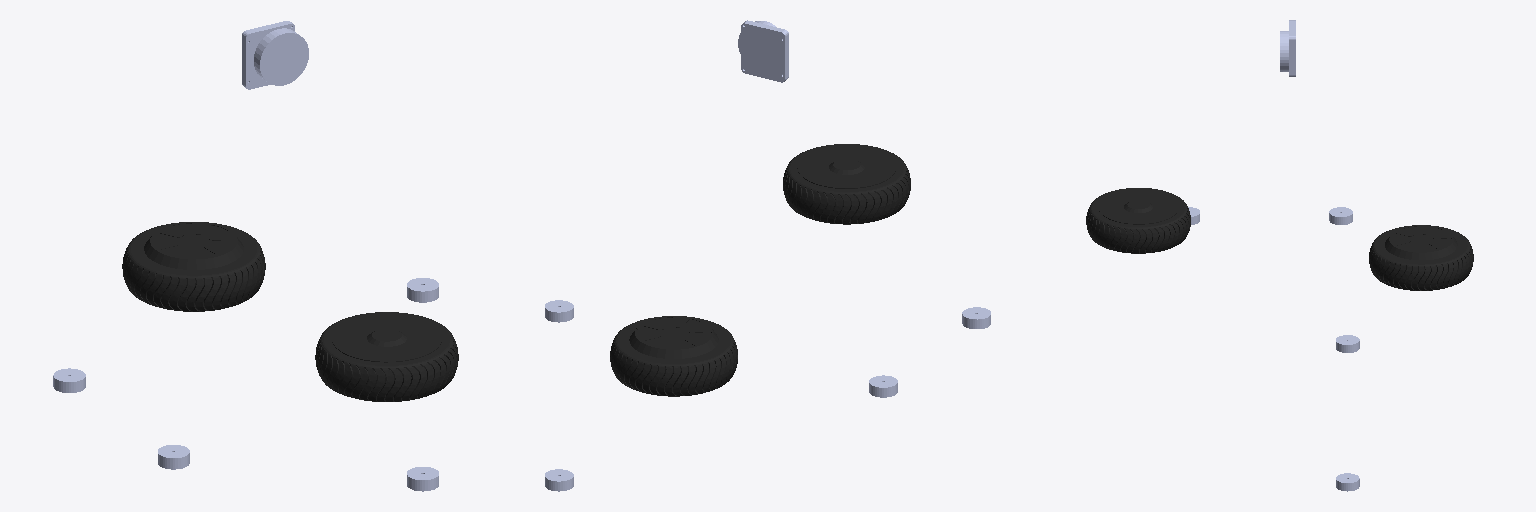
URDF robot description (robotv3):
<?xml version="1.0" encoding="utf-8"?>
<!-- This URDF was automatically created by SolidWorks to URDF Exporter! Originally created by [author] ([email redacted]) 
     Commit Version: 1.6.0-4-g7f85cfe  Build Version: 1.6.7995.38578
     For more information, please see http://wiki.ros.org/sw_urdf_exporter -->
<robot name="robotv3">
  <link name="world"/>
  <!-- /////////////////////////base link/////////////////////////-->
  <link name="base_link">
    <inertial>
      <origin xyz="0.140000952371063 0.00451310766751525 0.0915757789967482" rpy="0 0 0" />
      <mass value="6.47533924385785" />
      <inertia ixx="0.0302625304757238" ixy="1.94487781237177E-07" ixz="-1.9192528153292E-07" iyy="0.092475795669923" iyz="7.93867078290133E-08" izz="0.103362118587658" />
    </inertial>
    <visual>
      <origin xyz="0 0 0" rpy="0 0 0" />
      <geometry>
        <mesh filename="package://robotv3/meshes/base_link.STL" />
      </geometry>
      <material name="">
        <color rgba="0.792156862745098 0.819607843137255 0.933333333333333 1" />
      </material>
    </visual>
    <collision>
      <origin xyz="0 0 0" rpy="0 0 0" />
      <geometry>
        <mesh filename="package://robotv3/meshes/base_link.STL" />
      </geometry>
    </collision>
  </link>
  <link name="Rmotor">
    <inertial>
      <origin xyz="-6.77236045021345E-15 7.38177127135309E-06 -0.0303894831621584" rpy="0 0 0" />
      <mass value="0.989823090734284" />
      <inertia ixx="0.00167927627906862" ixy="-3.96697086748782E-08" ixz="-1.21932956844046E-18" iyy="0.00167924910773203" iyz="3.99026302025336E-07" izz="0.00288692436393867" />
    </inertial>
    <visual>
      <origin xyz="0 0 0" rpy="0 0 0" />
      <geometry>
        <mesh filename="package://robotv3/meshes/Rmotor.STL" />
      </geometry>
      <material name="">
        <color rgba="0.2 0.2 0.2 1" />
      </material>
    </visual>
    <collision>
      <origin xyz="0 0 0" rpy="0 0 0" />
      <geometry>
        <mesh filename="package://robotv3/meshes/Rmotor.STL" />
      </geometry>
    </collision>
  </link>
  <joint name="Rmotor-jt" type="continuous">
    <origin xyz="0.140750000000001 -0.219630000000005 -0.0359999999999837" rpy="1.57079632679484 0 0" />
    <parent link="base_link" />
    <child link="Rmotor" />
    <axis xyz="0 0 1" />
  </joint>
  <link name="Lmotor">
    <inertial>
      <origin xyz="-0.00150000000000572 7.38177127235229E-06 0.0303894831621573" rpy="0 0 0" />
      <mass value="0.989823090734153" />
      <inertia ixx="0.00167927627906842" ixy="3.96697086918246E-08" ixz="-7.95229096556754E-18" iyy="0.00167924910773175" iyz="-3.99026302030596E-07" izz="0.0028869243639382" />
    </inertial>
    <visual>
      <origin xyz="0 0 0" rpy="0 0 0" />
      <geometry>
        <mesh filename="package://robotv3/meshes/Lmotor.STL" />
      </geometry>
      <material name="">
        <color rgba="0.2 0.2 0.2 1" />
      </material>
    </visual>
    <collision>
      <origin xyz="0 0 0" rpy="0 0 0" />
      <geometry>
        <mesh filename="package://robotv3/meshes/Lmotor.STL" />
      </geometry>
    </collision>
  </link>
  <joint name="Lmotor-jt" type="continuous">
    <origin xyz="0.140750000000012 0.219499999999995 -0.03600000000001" rpy="1.57079632679484 0 0" />
    <parent link="base_link" />
    <child link="Lmotor" />
    <axis xyz="0 0 1" />
  </joint>
  <link name="lidar">
    <inertial>
      <origin xyz="0.00676628412110791 -0.0223997547966232 0.000207944111953351" rpy="0 0 0" />
      <mass value="1.32944589754502" />
      <inertia ixx="0.000612752010300123" ixy="0.000158232462510537" ixz="8.01141141657016E-07" iyy="0.00109574614926809" iyz="3.09663447837254E-06" izz="0.000957691135206995" />
    </inertial>
    <visual>
      <origin xyz="0 0 0" rpy="0 0 0" />
      <geometry>
        <mesh filename="package://robotv3/meshes/lidar.STL" />
      </geometry>
      <material name="">
        <color rgba="0.792156862745098 0.819607843137255 0.933333333333333 1" />
      </material>
    </visual>
    <collision>
      <origin xyz="0 0 0" rpy="0 0 0" />
      <geometry>
        <mesh filename="package://robotv3/meshes/lidar.STL" />
      </geometry>
    </collision>
  </link>
  <joint name="lidar-jt" type="fixed">
    <origin xyz="0.132999999999998 0.000115901455793238 0.282700000000003" rpy="1.57079632679484 0 0" />
    <parent link="base_link" />
    <child link="lidar" />
    <axis xyz="0 1 0" />
  </joint>
  <link name="BLcaster">
    <inertial>
      <origin xyz="-0.000930000000013198 3.01980662698043E-14 -0.00699999999999325" rpy="0 0 0" />
      <mass value="0.0148770120110745" />
      <inertia ixx="1.53078254838952E-06" ixy="-1.47816556150456E-22" ixz="-2.55582044176612E-20" iyy="1.53078254838952E-06" iyz="5.88405645513596E-20" izz="2.57558270441727E-06" />
    </inertial>
    <visual>
      <origin xyz="0 0 0" rpy="0 0 0" />
      <geometry>
        <mesh filename="package://robotv3/meshes/BLcaster.STL" />
      </geometry>
      <material name="">
        <color rgba="0.792156862745098 0.819607843137255 0.933333333333333 1" />
      </material>
    </visual>
    <collision>
      <origin xyz="0 0 0" rpy="0 0 0" />
      <geometry>
        <mesh filename="package://robotv3/meshes/BLcaster.STL" />
      </geometry>
    </collision>
  </link>
  <joint name="BLcaster-jt" type="fixed">
    <origin xyz="-0.0946131497482311 0.113370685518284 -0.0989800000000416" rpy="1.57079632679484 0 0" />
    <parent link="base_link" />
    <child link="BLcaster" />
    <axis xyz="0 0 0" />
  </joint>
  <link name="BRcaster">
    <inertial>
      <origin xyz="-1.19904086659517E-14 2.96429547574917E-14 -0.00699999999999795" rpy="0 0 0" />
      <mass value="0.0148770120110745" />
      <inertia ixx="1.53078254838952E-06" ixy="-4.87703535040726E-22" ixz="-2.52097963368536E-20" iyy="1.53078254838952E-06" iyz="5.86858533465206E-20" izz="2.57558270441727E-06" />
    </inertial>
    <visual>
      <origin xyz="0 0 0" rpy="0 0 0" />
      <geometry>
        <mesh filename="package://robotv3/meshes/BRcaster.STL" />
      </geometry>
      <material name="">
        <color rgba="0.792156862745098 0.819607843137255 0.933333333333333 1" />
      </material>
    </visual>
    <collision>
      <origin xyz="0 0 0" rpy="0 0 0" />
      <geometry>
        <mesh filename="package://robotv3/meshes/BRcaster.STL" />
      </geometry>
    </collision>
  </link>
  <joint name="BRcaster-jt" type="fixed">
    <origin xyz="-0.0946131497482422 -0.123629314481715 -0.0989800000000141" rpy="1.57079632679484 0 0" />
    <parent link="base_link" />
    <child link="BRcaster" />
    <axis xyz="0 0 0" />
  </joint>
  <link name="FLcaster">
    <inertial>
      <origin xyz="-2.66453525910038E-15 -8.21565038222616E-15 0.00699999999998256" rpy="0 0 0" />
      <mass value="0.0148770120110745" />
      <inertia ixx="1.53078254838952E-06" ixy="4.48721787035506E-22" ixz="-3.28861530613501E-20" iyy="1.53078254838951E-06" iyz="2.89662174250623E-21" izz="2.57558270441726E-06" />
    </inertial>
    <visual>
      <origin xyz="0 0 0" rpy="0 0 0" />
      <geometry>
        <mesh filename="package://robotv3/meshes/FLcaster.STL" />
      </geometry>
      <material name="">
        <color rgba="0.792156862745098 0.819607843137255 0.933333333333333 1" />
      </material>
    </visual>
    <collision>
      <origin xyz="0 0 0" rpy="0 0 0" />
      <geometry>
        <mesh filename="package://robotv3/meshes/FLcaster.STL" />
      </geometry>
    </collision>
  </link>
  <joint name="FLcaster-jt" type="fixed">
    <origin xyz="0.375543149748256 0.123629314481695 -0.0989800000000121" rpy="1.57079632679484 0 0" />
    <parent link="base_link" />
    <child link="FLcaster" />
    <axis xyz="0 0 0" />
  </joint>
  <link name="FRcaster">
    <inertial>
      <origin xyz="-7.54951656745106E-15 -1.0547118733939E-14 0.243999999999984" rpy="0 0 0" />
      <mass value="0.0148770120110745" />
      <inertia ixx="1.53078254838952E-06" ixy="7.00582450803852E-22" ixz="-3.04356913055372E-20" iyy="1.53078254838952E-06" iyz="2.91189916408321E-21" izz="2.57558270441727E-06" />
    </inertial>
    <visual>
      <origin xyz="0 0 0" rpy="0 0 0" />
      <geometry>
        <mesh filename="package://robotv3/meshes/FRcaster.STL" />
      </geometry>
      <material name="">
        <color rgba="0.792156862745098 0.819607843137255 0.933333333333333 1" />
      </material>
    </visual>
    <collision>
      <origin xyz="0 0 0" rpy="0 0 0" />
      <geometry>
        <mesh filename="package://robotv3/meshes/FRcaster.STL" />
      </geometry>
    </collision>
  </link>
  <joint name="FRcaster-jt" type="fixed">
    <origin xyz="0.375543149748256 0.123629314481695 -0.0989800000000121" rpy="1.57079632679484 0 0" />
    <parent link="base_link" />
    <child link="FRcaster" />
    <axis xyz="0 0 0" />
  </joint>

  <joint name="base_link_joint" type="fixed">
    <parent link="world"/>
    <child link="base_link"/>
    <origin rpy="0 0 0" xyz="0.0 0.0 0.17"/>
  </joint>

  <!-- Add transmissions for existing joints -->

  <transmission name="wheel_right_trans">
    <type>transmission_interface/SimpleTransmission</type>
    <joint name="Rmotor-jt">
      <hardwareInterface>hardware_interface/PositionJointInterface</hardwareInterface>
    </joint>
    <actuator name="wheel_right_motor">
      <hardwareInterface>hardware_interface/PositionJointInterface</hardwareInterface>
      <mechanicalReduction>1</mechanicalReduction>
    </actuator>
  </transmission>

  <transmission name="wheel_left_trans">
    <type>transmission_interface/SimpleTransmission</type>
    <joint name="Lmotor-jt">
      <hardwareInterface>hardware_interface/PositionJointInterface</hardwareInterface>
    </joint>
    <actuator name="wheel_leftt_motor">
      <hardwareInterface>hardware_interface/PositionJointInterface</hardwareInterface>
      <mechanicalReduction>1</mechanicalReduction>
    </actuator>
  </transmission>

  <transmission name="BLcaster_trans">
    <type>transmission_interface/SimpleTransmission</type>
    <joint name="BLcaster-jt">
      <hardwareInterface>hardware_interface/PositionJointInterface</hardwareInterface>
    </joint>
    <actuator name="BLcaster">
      <hardwareInterface>hardware_interface/PositionJointInterface</hardwareInterface>
      <mechanicalReduction>1</mechanicalReduction>
    </actuator>
  </transmission>

  <transmission name="BRcaster_trans">
    <type>transmission_interface/SimpleTransmission</type>
    <joint name="BRcaster-jt">
      <hardwareInterface>hardware_interface/PositionJointInterface</hardwareInterface>
    </joint>
    <actuator name="BRcaster">
      <hardwareInterface>hardware_interface/PositionJointInterface</hardwareInterface>
      <mechanicalReduction>1</mechanicalReduction>
    </actuator>
  </transmission>

  <transmission name="FLcaster_trans">
    <type>transmission_interface/SimpleTransmission</type>
    <joint name="FLcaster-jt">
      <hardwareInterface>hardware_interface/PositionJointInterface</hardwareInterface>
    </joint>
    <actuator name="FLcaster">
      <hardwareInterface>hardware_interface/PositionJointInterface</hardwareInterface>
      <mechanicalReduction>1</mechanicalReduction>
    </actuator>
  </transmission>

  <transmission name="FRcaster_trans">
    <type>transmission_interface/SimpleTransmission</type>
    <joint name="FRcaster-jt">
      <hardwareInterface>hardware_interface/PositionJointInterface</hardwareInterface>
    </joint>
    <actuator name="FRcaster">
      <hardwareInterface>hardware_interface/PositionJointInterface</hardwareInterface>
      <mechanicalReduction>1</mechanicalReduction>
    </actuator>
  </transmission>

  <transmission name="lidar_trans">
    <type>transmission_interface/SimpleTransmission</type>
    <joint name="lidar-jt">
      <hardwareInterface>hardware_interface/PositionJointInterface</hardwareInterface>
    </joint>
    <actuator name="lidar">
      <hardwareInterface>hardware_interface/PositionJointInterface</hardwareInterface>
      <mechanicalReduction>1</mechanicalReduction>
    </actuator>
  </transmission>

  <!-- Add Gazebo plugins and properties -->
  <gazebo>
    <plugin name="control" filename="libgazebo_ros_control.so">
      <robotNamespace>/</robotNamespace>
    </plugin>
  </gazebo>

  <gazebo reference="base_link">
    <selfCollide>true</selfCollide>
  </gazebo>

  <gazebo reference="BLcaster">
    <selfCollide>true</selfCollide>
  </gazebo>

  <gazebo reference="BRcaster">
    <selfCollide>true</selfCollide>
  </gazebo>

  <gazebo reference="FLcaster">
    <selfCollide>true</selfCollide>
  </gazebo>

  <gazebo reference="FRcaster">
    <selfCollide>true</selfCollide>
  </gazebo>

  <gazebo reference="lidar">
    <selfCollide>true</selfCollide>
  </gazebo>

  <gazebo reference="Lmotor">
    <selfCollide>true</selfCollide>
  </gazebo>

  <gazebo reference="Rmotor">
    <selfCollide>true</selfCollide>
  </gazebo>

</robot>

--- Render facts (derived) ---
Views: 3 orthographic renders of the robot side by side, from view 1: azimuth 30°, elevation 25°; view 2: azimuth 150°, elevation 25°; view 3: azimuth 270°, elevation 25°.
Robot: robotv3 — 9 links, 8 joints (2 continuous, 6 fixed); root link world; default pose: every joint at zero.
Links seen in each view (by area): view 1: Lmotor, Rmotor, lidar, BLcaster, FLcaster, BRcaster, FRcaster; view 2: Lmotor, Rmotor, lidar, FLcaster, FRcaster, BLcaster, BRcaster; view 3: Lmotor, Rmotor, lidar.
Boxes of the visible links, <box> form: Lmotor: <box>122,222,265,311</box>; Rmotor: <box>315,312,458,401</box>; lidar: <box>242,21,308,89</box>; BLcaster: <box>53,368,85,392</box>; FLcaster: <box>407,278,438,302</box>; BRcaster: <box>158,445,189,469</box>; FRcaster: <box>407,467,438,491</box>; Lmotor: <box>610,316,737,396</box>; Rmotor: <box>783,144,910,224</box>; lidar: <box>738,20,788,82</box>; FLcaster: <box>545,300,573,322</box>; FRcaster: <box>545,469,573,491</box>; BLcaster: <box>869,375,897,397</box>; BRcaster: <box>962,307,990,328</box>; Lmotor: <box>1369,225,1473,290</box>; Rmotor: <box>1086,188,1190,253</box>; lidar: <box>1280,20,1295,76</box>.
Size in the robot's own frame: 0.5072 by 0.6021 by 0.6678 metres.
Meshes: 8 distinct files referenced, 7 mesh visuals loaded (7 binary STL); not drawn: 1 (reference not matched to a file when rendering).
